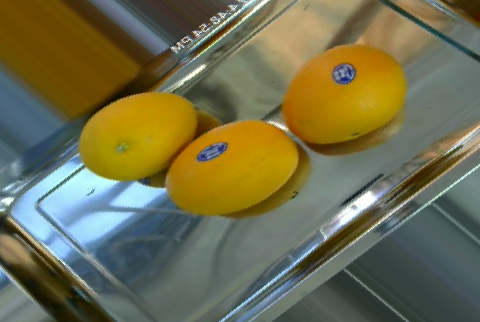Orange: (165, 118, 301, 216), (280, 42, 406, 144), (77, 90, 196, 180)
